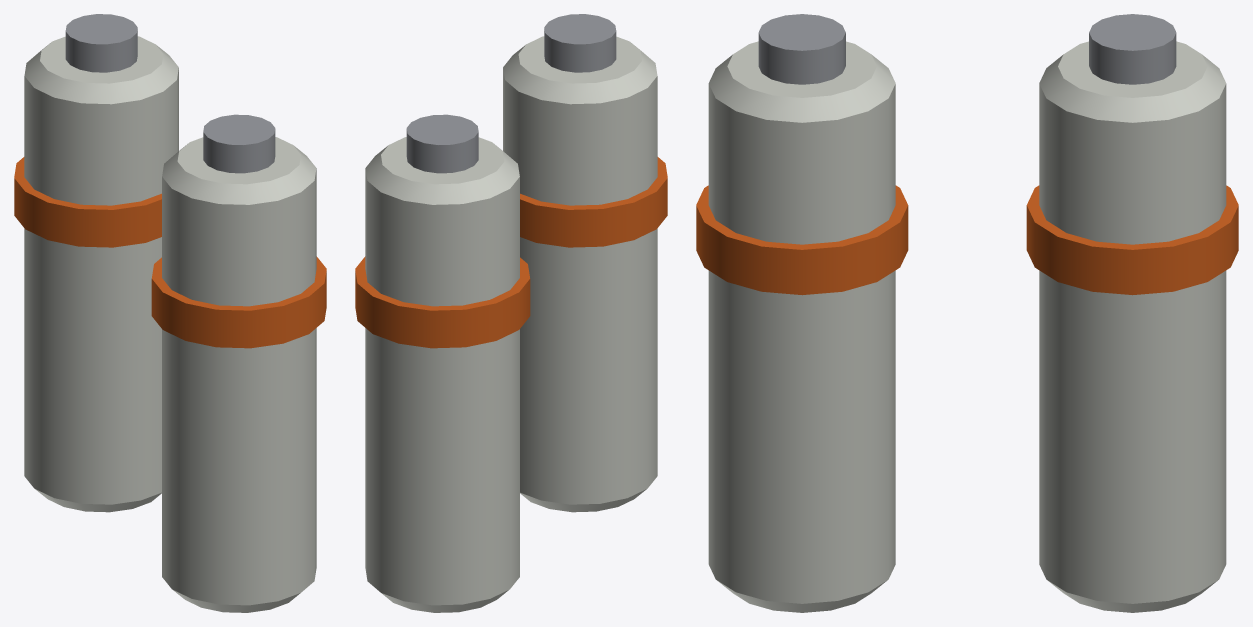
Rendered from o4_scrubber.obj.
3 renders of one model, left to right at view 1: azimuth 30°, elevation 25°; view 2: azimuth 150°, elevation 25°; view 3: azimuth 270°, elevation 25°, orthographic. The views are drawn at different scales.
Visible parts, largest first — view 1: o4_scrubber; view 2: o4_scrubber; view 3: o4_scrubber.
Part boxes in pixels (x1=…): o4_scrubber: x1=14, y1=14, x2=326, y2=612; o4_scrubber: x1=355, y1=14, x2=667, y2=612; o4_scrubber: x1=696, y1=14, x2=1238, y2=612.
Size of the model in its own units: 0.34 by 0.971 by 0.87.
